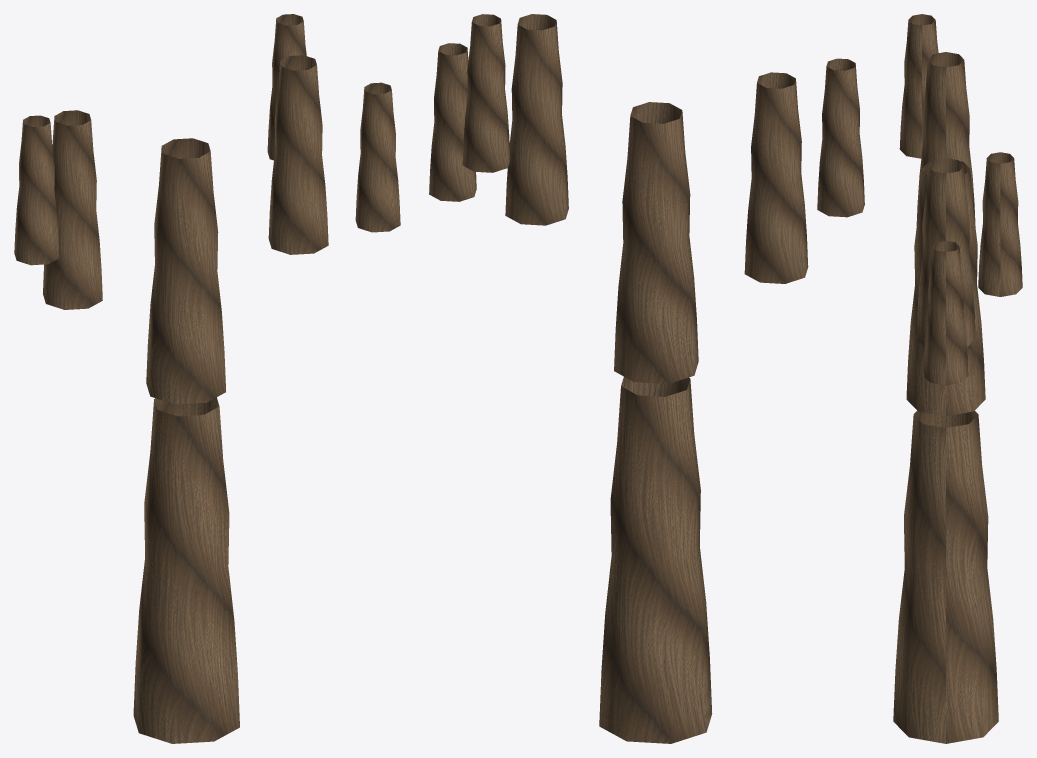
Rendered from treesection-rendered.glb.
The picture shows the model from 3 angles, left to right: view 1: azimuth 30°, elevation 25°; view 2: azimuth 150°, elevation 25°; view 3: azimuth 270°, elevation 25°; orthographic projection. The views are drawn at different scales.
Visible parts, largest first — view 1: Trunk604d8ce639154e75e32a5c55, Trunk604d8ce639154e75e32a5c57, Trunk604d8ce639154e75e32a5c59, Trunk604d8ce639154e75e32a5c6d, Trunk604d8ce639154e75e32a5c6f, Trunk604d8ce639154e75e32a5c5b, Trunk604d8ce639154e75e32a5c63; view 2: Trunk604d8ce639154e75e32a5c55, Trunk604d8ce639154e75e32a5c57, Trunk604d8ce639154e75e32a5c6d, Trunk604d8ce639154e75e32a5c59, Trunk604d8ce639154e75e32a5c63, Trunk604d8ce639154e75e32a5c6f, Trunk604d8ce639154e75e32a5c5b; view 3: Trunk604d8ce639154e75e32a5c55, Trunk604d8ce639154e75e32a5c57, Trunk604d8ce639154e75e32a5c59, Trunk604d8ce639154e75e32a5c63, Trunk604d8ce639154e75e32a5c5b, Trunk604d8ce639154e75e32a5c6d, Trunk604d8ce639154e75e32a5c6f.
Part boxes in pixels (box(x1,y1,x2,y2)): Trunk604d8ce639154e75e32a5c55: box(133, 397, 239, 743); Trunk604d8ce639154e75e32a5c57: box(146, 138, 225, 404); Trunk604d8ce639154e75e32a5c59: box(268, 55, 328, 254); Trunk604d8ce639154e75e32a5c6d: box(43, 110, 102, 309); Trunk604d8ce639154e75e32a5c6f: box(14, 115, 59, 265); Trunk604d8ce639154e75e32a5c5b: box(355, 82, 400, 232); Trunk604d8ce639154e75e32a5c63: box(267, 14, 306, 160); Trunk604d8ce639154e75e32a5c55: box(599, 377, 712, 743); Trunk604d8ce639154e75e32a5c57: box(614, 102, 698, 384); Trunk604d8ce639154e75e32a5c6d: box(744, 72, 808, 283); Trunk604d8ce639154e75e32a5c59: box(505, 14, 568, 225); Trunk604d8ce639154e75e32a5c63: box(462, 14, 510, 172); Trunk604d8ce639154e75e32a5c6f: box(817, 58, 864, 217); Trunk604d8ce639154e75e32a5c5b: box(429, 43, 476, 201); Trunk604d8ce639154e75e32a5c55: box(893, 410, 998, 743); Trunk604d8ce639154e75e32a5c57: box(906, 161, 985, 416); Trunk604d8ce639154e75e32a5c59: box(916, 158, 975, 347); Trunk604d8ce639154e75e32a5c63: box(978, 152, 1022, 296); Trunk604d8ce639154e75e32a5c5b: box(923, 240, 968, 385); Trunk604d8ce639154e75e32a5c6d: box(916, 52, 975, 226); Trunk604d8ce639154e75e32a5c6f: box(899, 14, 938, 158).
Size of the model in its own units: 4.63 by 7.28 by 1.37.
Materials: 1 (1 with a texture image).
